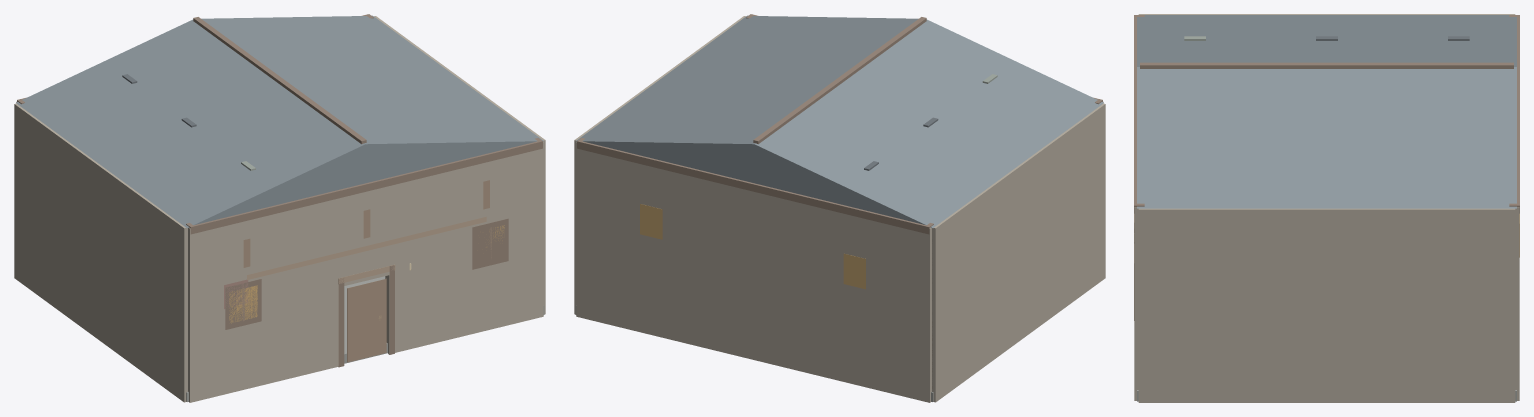
Rendered from last_candle_inn_inhabited.glb.
3 views of the same model, side by side, from view 1: azimuth 30°, elevation 25°; view 2: azimuth 150°, elevation 25°; view 3: azimuth 270°, elevation 25° (orthographic). The views are drawn at different scales.
Visible parts, largest first — view 1: last_candle_inn_mat_01, last_candle_inn_mat_07, last_candle_inn_mat_02, last_candle_inn_mat_04, last_candle_inn_mat_03, last_candle_inn_mat_06, last_candle_inn_mat_00; view 2: last_candle_inn_mat_01, last_candle_inn_mat_07, last_candle_inn_mat_02, last_candle_inn_mat_06; view 3: last_candle_inn_mat_01, last_candle_inn_mat_07, last_candle_inn_mat_02.
Part boxes in pixels (x1=…): last_candle_inn_mat_01: x1=14, y1=16, x2=545, y2=402; last_candle_inn_mat_07: x1=16, y1=15, x2=543, y2=228; last_candle_inn_mat_02: x1=17, y1=14, x2=542, y2=367; last_candle_inn_mat_04: x1=242, y1=180, x2=491, y2=362; last_candle_inn_mat_03: x1=247, y1=216, x2=486, y2=283; last_candle_inn_mat_06: x1=229, y1=225, x2=504, y2=323; last_candle_inn_mat_00: x1=186, y1=276, x2=544, y2=401; last_candle_inn_mat_01: x1=574, y1=16, x2=1105, y2=402; last_candle_inn_mat_07: x1=576, y1=15, x2=1103, y2=228; last_candle_inn_mat_02: x1=577, y1=14, x2=1102, y2=388; last_candle_inn_mat_06: x1=640, y1=204, x2=865, y2=289; last_candle_inn_mat_01: x1=1134, y1=14, x2=1519, y2=402; last_candle_inn_mat_07: x1=1137, y1=15, x2=1516, y2=208; last_candle_inn_mat_02: x1=1134, y1=15, x2=1519, y2=320.
Bounding box in the file's own units: 5.97 × 3.44 × 4.98.
